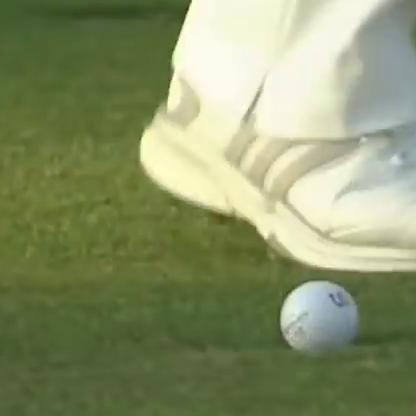golfball: (274, 278, 356, 355)
